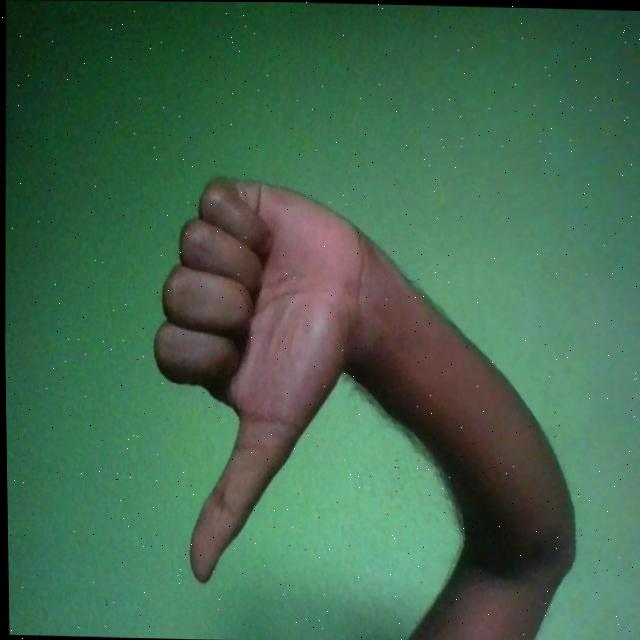Dislike: (144, 172, 370, 588)
